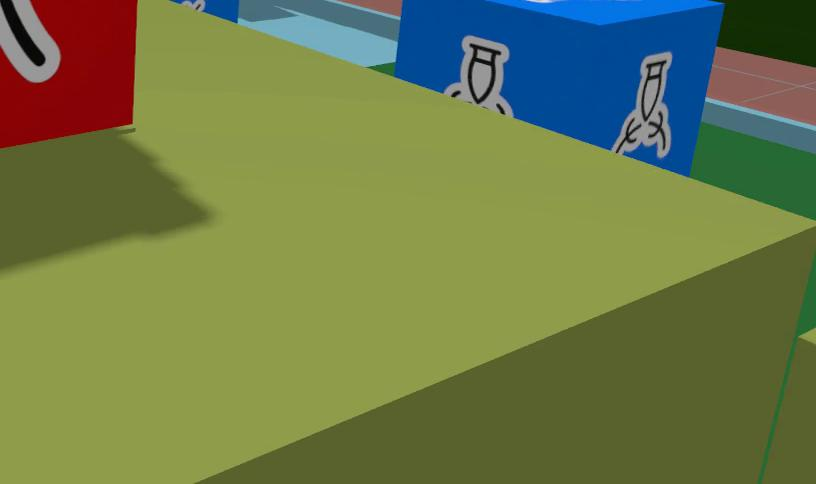KFS_FAKE: (0, 0, 138, 148), (0, 0, 60, 82)
KFS_REAL: (394, 0, 723, 175), (613, 52, 672, 157), (444, 36, 511, 115), (170, 0, 238, 23), (525, 0, 599, 3)
